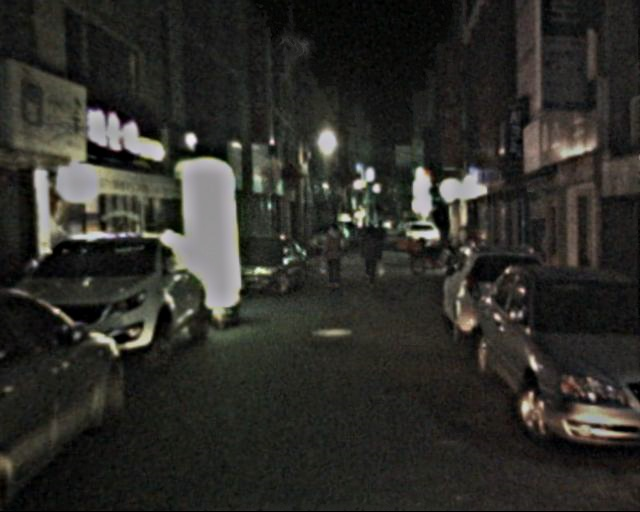person: (356, 220, 383, 287), (318, 226, 344, 290)
